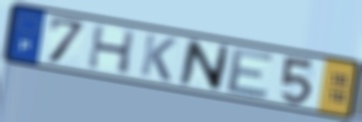5: (277, 54, 318, 106)
7: (46, 14, 89, 66)
E: (224, 47, 277, 100)
H: (85, 22, 138, 76)
K: (138, 31, 179, 84)
N: (176, 37, 232, 94)
